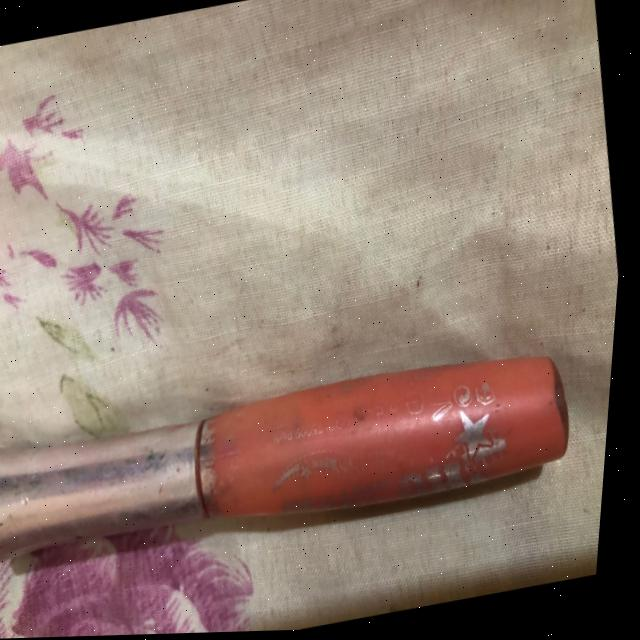lip gloss: (0, 327, 602, 589)
